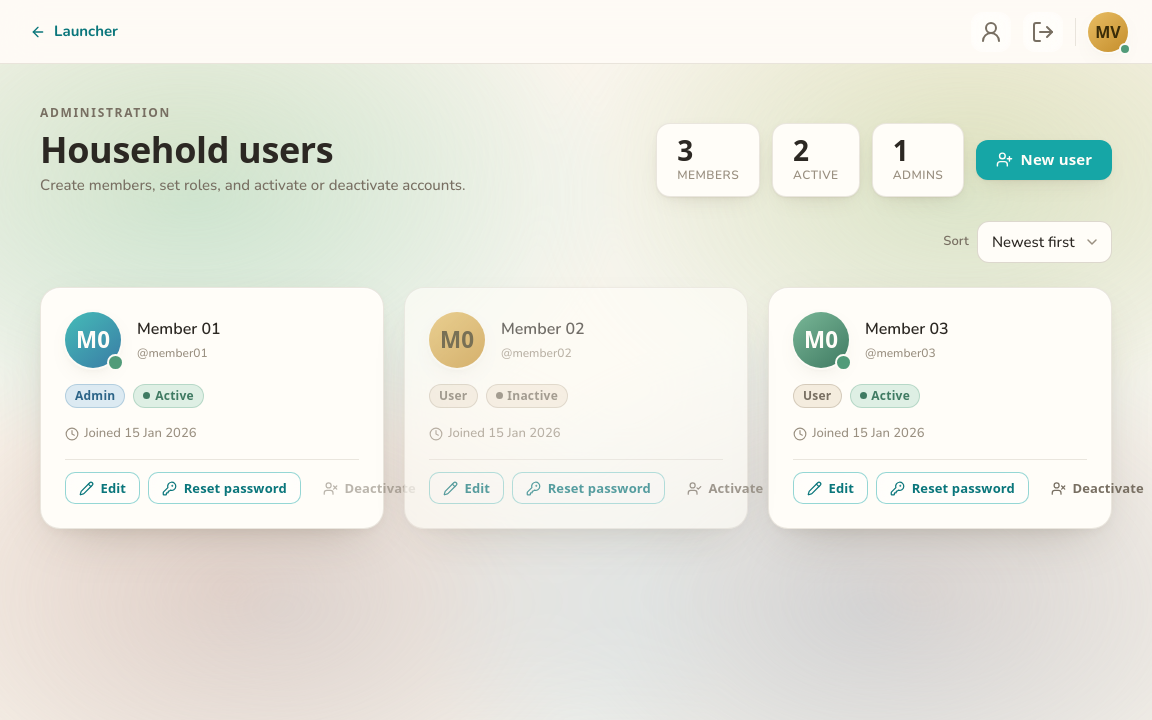
Scenario: administrative user management › creates a user and reflects it in the list
The image size is (1152, 720).
Expected: the text "Member 01" is shown, [137,317,221,341]
Click the button "New user". click: (1044, 160)
box: [976,140,1112,180]
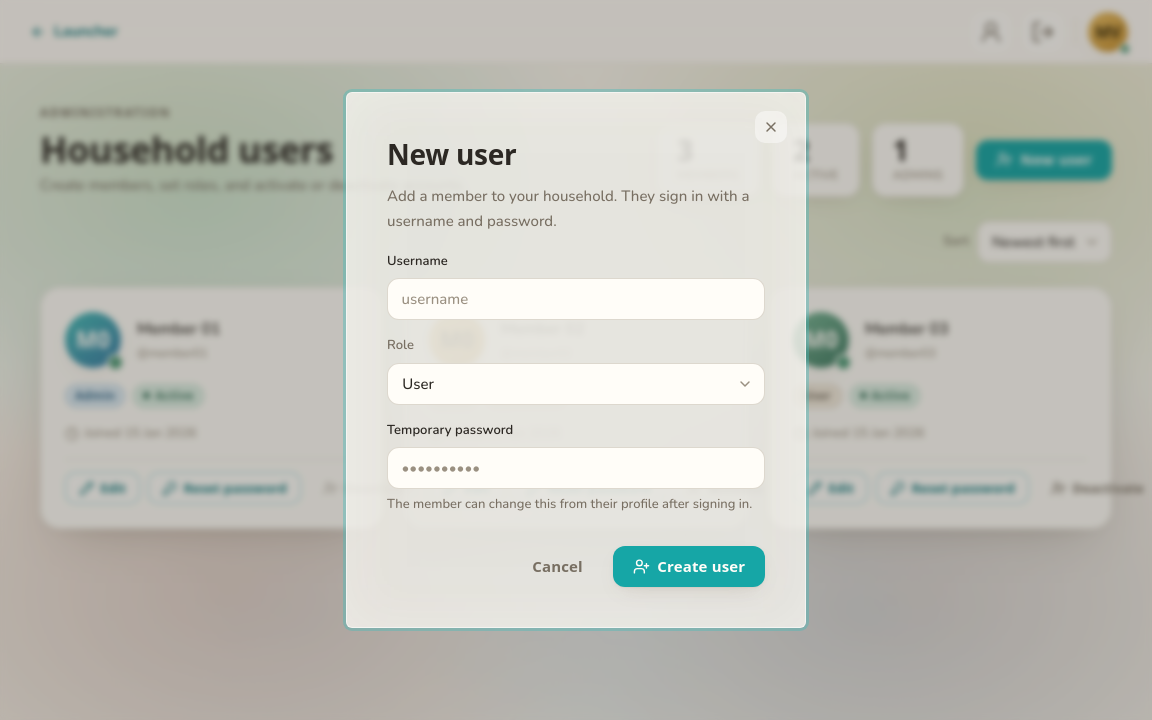
Type "alex" into the field labelled "Username". click: (576, 299)
box: [402,280,750,318]
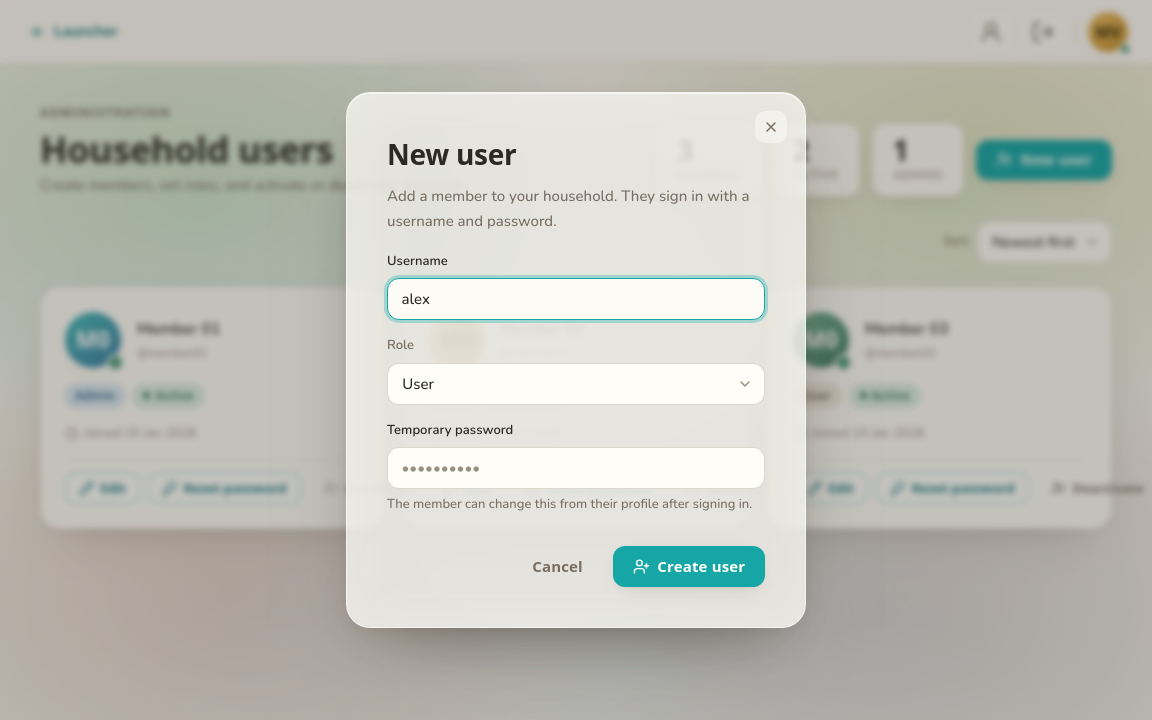
Type "Password1234!" into the password field labelled "Temporary password". click: (576, 468)
box: [402,449,750,487]
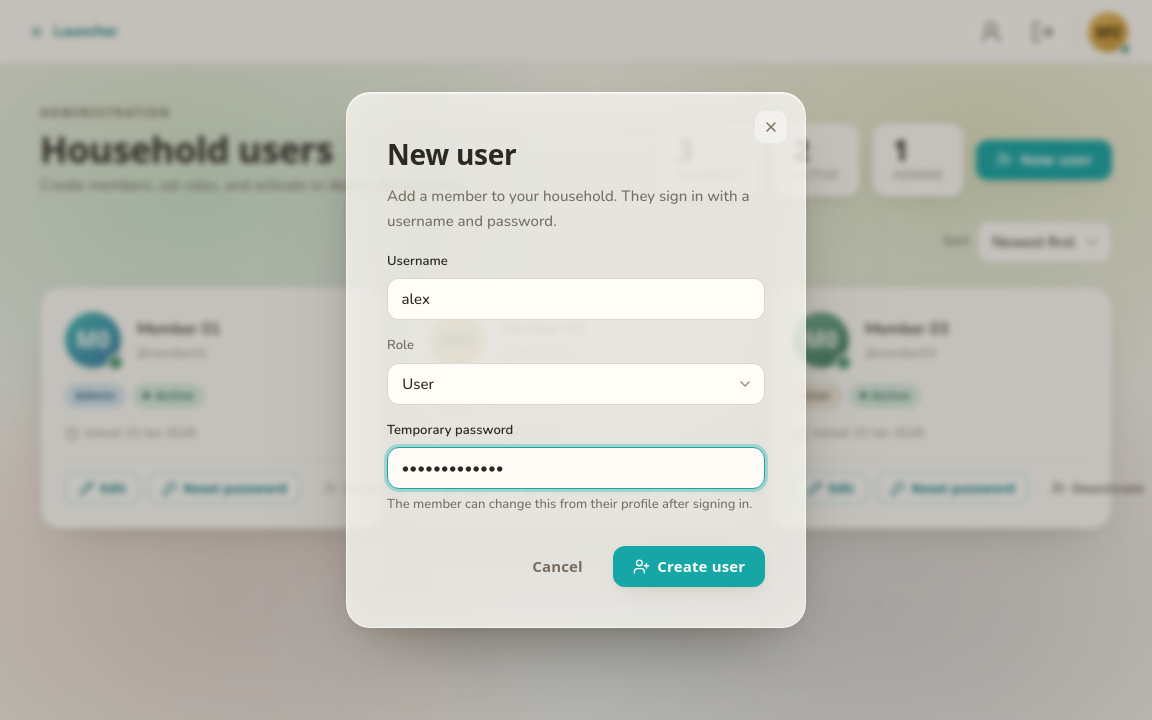
Click the button "Create user". click: (689, 567)
box: [613,546,765,587]
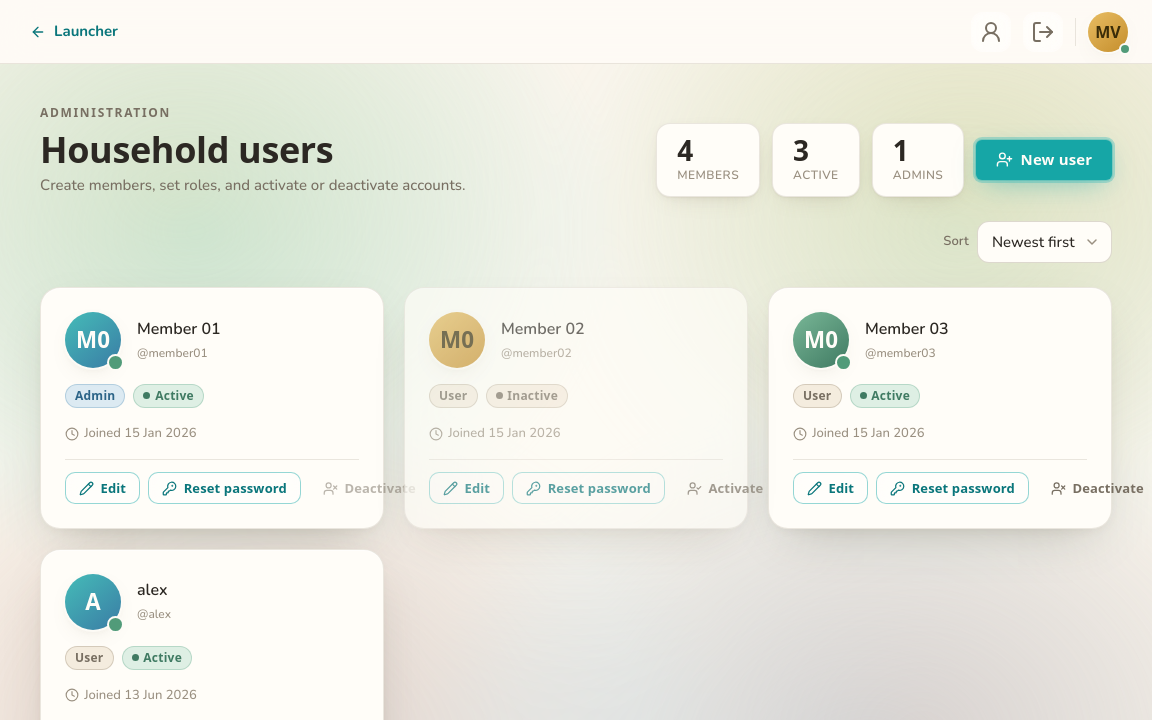
Result: the text "@alex" is shown at [137,606,171,622]
